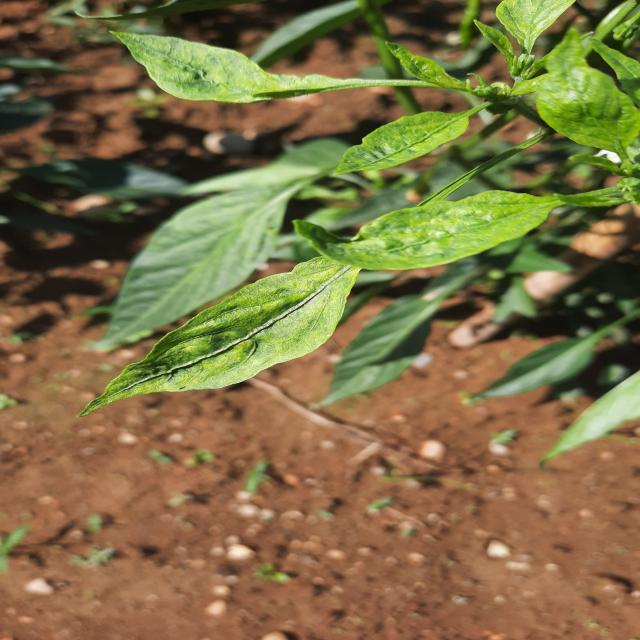thrips: (65, 250, 407, 435), (296, 188, 569, 274), (313, 109, 486, 178)
